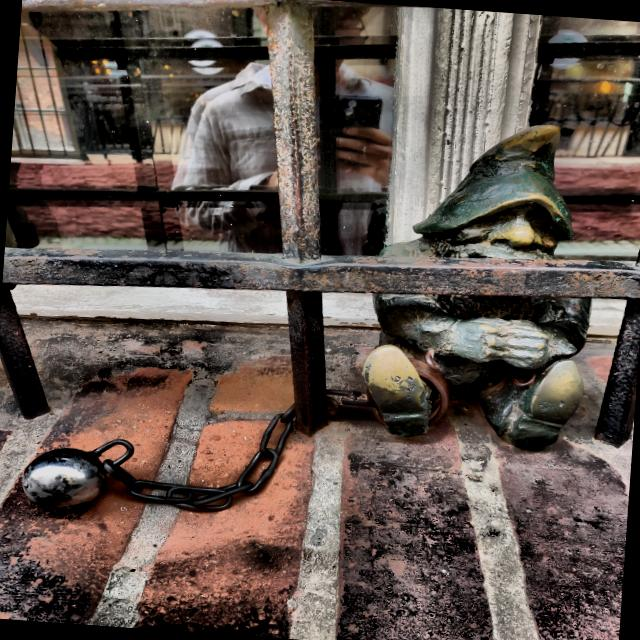Wiezien: (326, 293, 590, 449), (21, 406, 296, 511), (383, 125, 570, 259)
